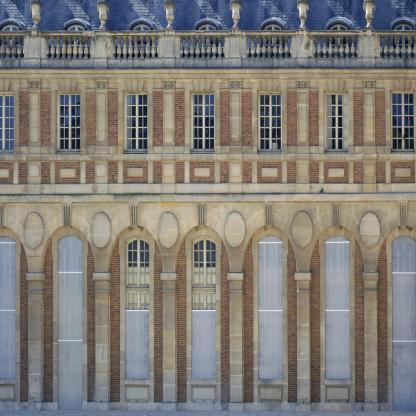Balcony: (1, 32, 415, 64)
Building Outline: (0, 0, 415, 415)
Cornice: (129, 201, 139, 227), (197, 201, 207, 227), (264, 201, 274, 227), (331, 201, 341, 227), (399, 202, 409, 227), (62, 202, 72, 227), (58, 80, 77, 91), (393, 79, 411, 90), (125, 80, 144, 90), (192, 80, 211, 90), (259, 80, 278, 90), (327, 80, 344, 90), (0, 201, 5, 227), (0, 81, 10, 90)
Deco: (163, 0, 177, 30), (30, 0, 43, 30), (97, 0, 110, 30), (230, 0, 243, 30), (363, 0, 376, 30), (297, 0, 310, 30)
Facade: (0, 0, 415, 415)
Floor: (1, 75, 415, 191)
Floor Slab: (1, 64, 415, 75), (1, 191, 415, 201)
Ground Floor: (1, 202, 415, 416)
Pillar: (362, 78, 376, 184), (28, 78, 41, 184), (95, 78, 108, 184), (162, 78, 175, 184), (229, 78, 242, 184), (296, 78, 309, 184)
Roof: (0, 1, 416, 58)
Top Floor: (0, 0, 415, 64)
Window: (309, 225, 365, 411), (41, 225, 96, 411), (108, 225, 163, 411), (175, 225, 230, 411), (242, 225, 297, 411), (376, 226, 416, 411), (0, 225, 29, 411), (58, 235, 83, 410), (392, 235, 416, 411), (125, 235, 150, 379), (191, 235, 216, 379), (258, 235, 283, 379), (325, 235, 350, 379), (0, 235, 15, 379), (258, 93, 282, 151), (391, 93, 414, 151), (125, 93, 148, 151), (192, 93, 215, 151), (325, 93, 348, 151), (58, 93, 80, 151), (0, 93, 14, 151), (2, 24, 19, 46), (199, 24, 216, 46), (330, 24, 347, 46), (394, 24, 411, 45), (134, 24, 150, 46), (265, 24, 281, 46), (68, 25, 84, 45)
